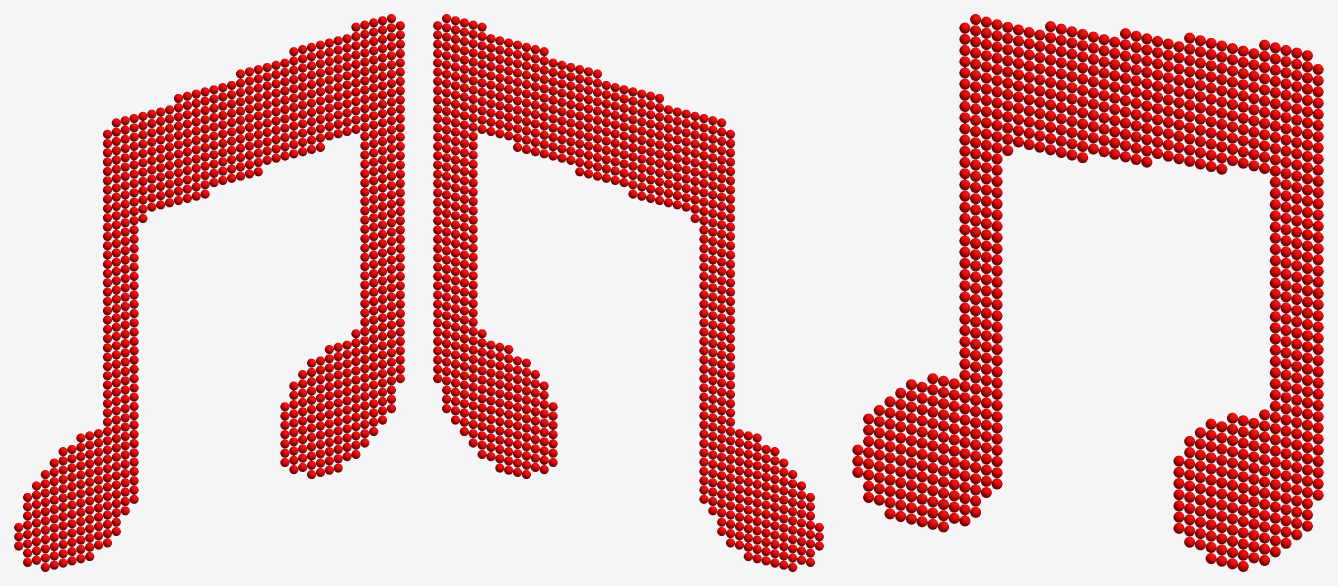
File: music_note.glb
3 views of the same model, side by side, from view 1: azimuth 30°, elevation 25°; view 2: azimuth 150°, elevation 25°; view 3: azimuth 330°, elevation 25° (orthographic). The views are drawn at different scales.
Bounding box in the file's own units: 132 × 153 × 2.7.
